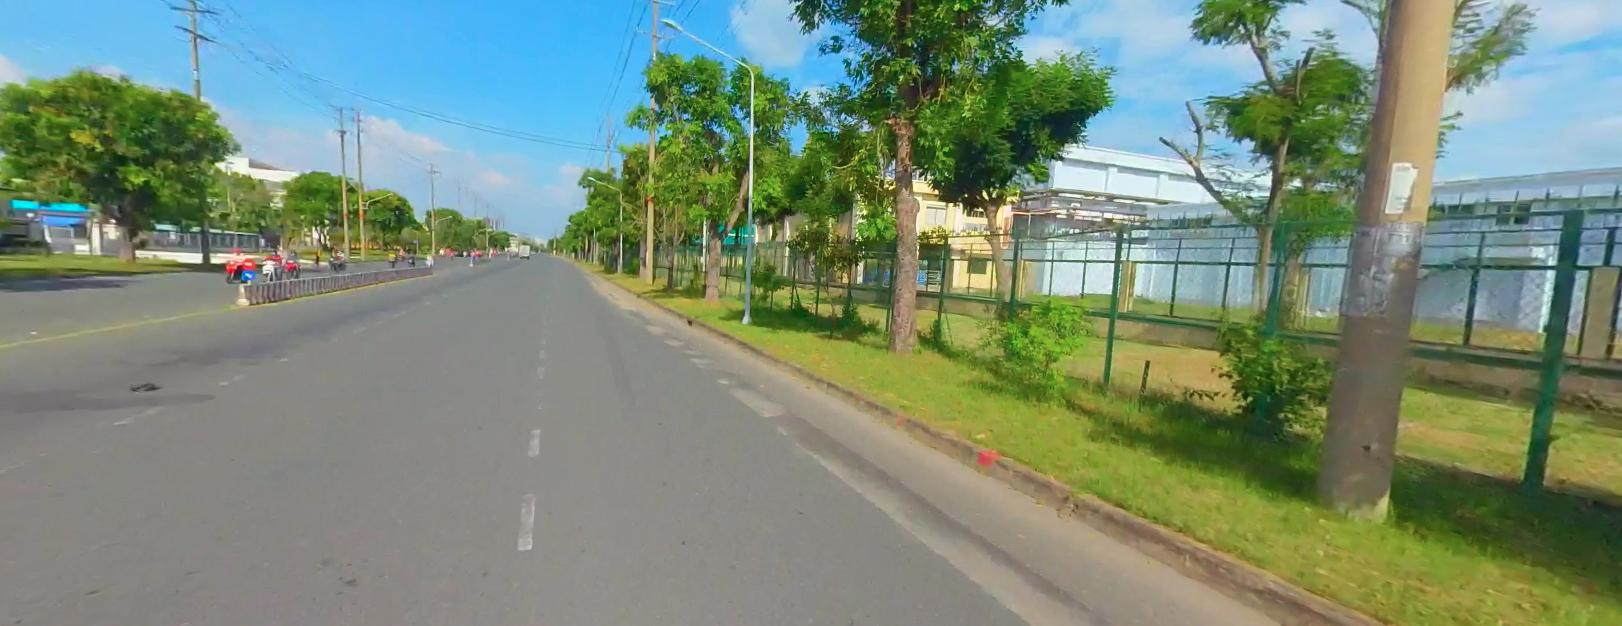Cam nguoc chieu: (242, 256, 254, 267)
Hieu lenh: (241, 267, 256, 279)
